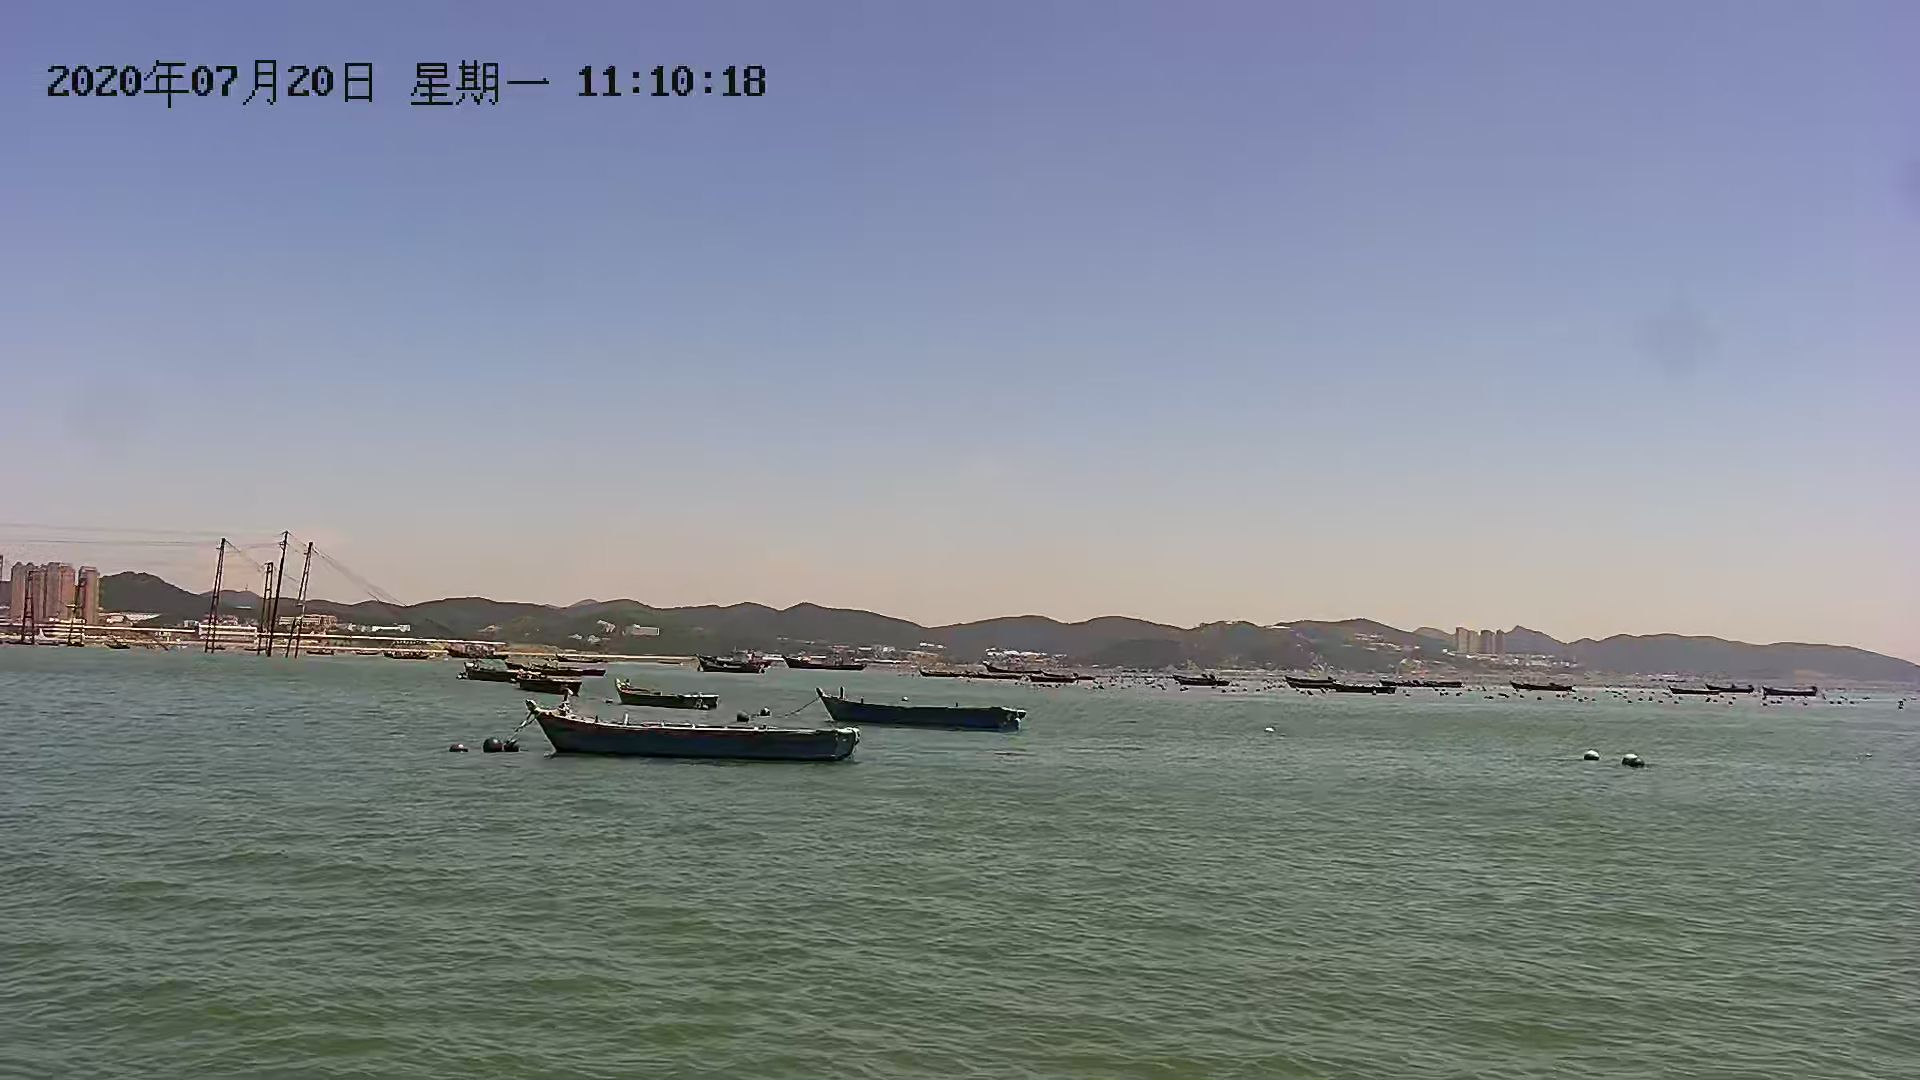ball: (1619, 746, 1650, 774), (501, 735, 526, 758), (1581, 742, 1607, 764), (477, 735, 500, 754)
boat: (521, 698, 861, 767), (814, 684, 1029, 735), (609, 669, 723, 711), (506, 667, 587, 698), (778, 653, 873, 675), (1758, 676, 1830, 702), (467, 659, 545, 682), (1329, 678, 1396, 702), (1509, 676, 1581, 698), (1171, 667, 1234, 691)
mast: (204, 537, 229, 663), (287, 549, 310, 667), (261, 527, 280, 661)
